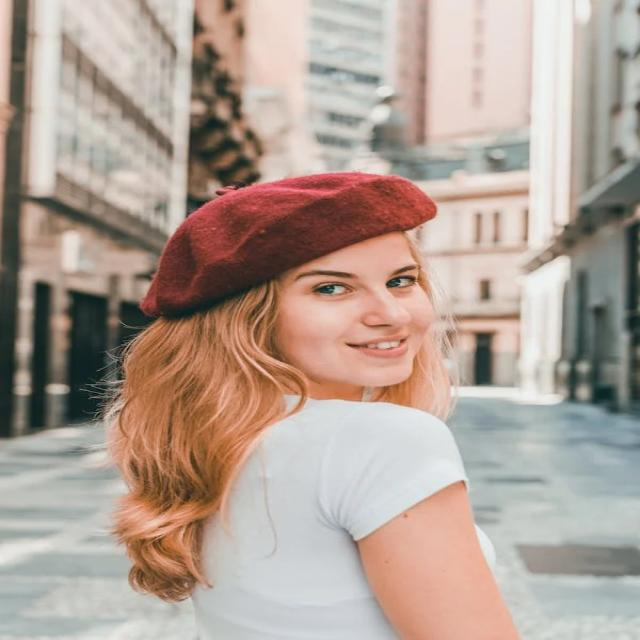no_mask: (158, 198, 533, 413)
